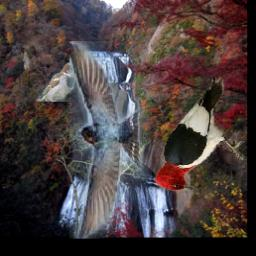Sparrow: (36, 63, 80, 103)
Swallow: (68, 41, 151, 239)
Woodpecker: (154, 76, 247, 195)
